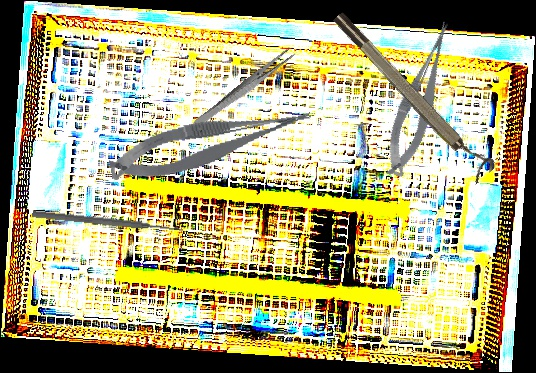Dressing Forceps: (190, 45, 297, 133)
Fixation Ring: (329, 2, 499, 186)
Micro Scissor: (105, 102, 317, 186), (371, 17, 471, 183)
Pusher: (31, 209, 184, 235)
